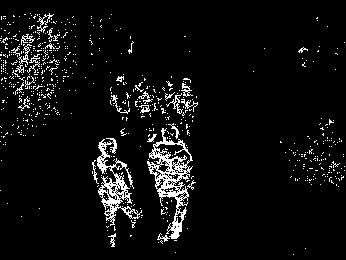person: (146, 124, 197, 244), (90, 135, 143, 246), (132, 73, 160, 143), (107, 72, 133, 140), (175, 76, 199, 137)
